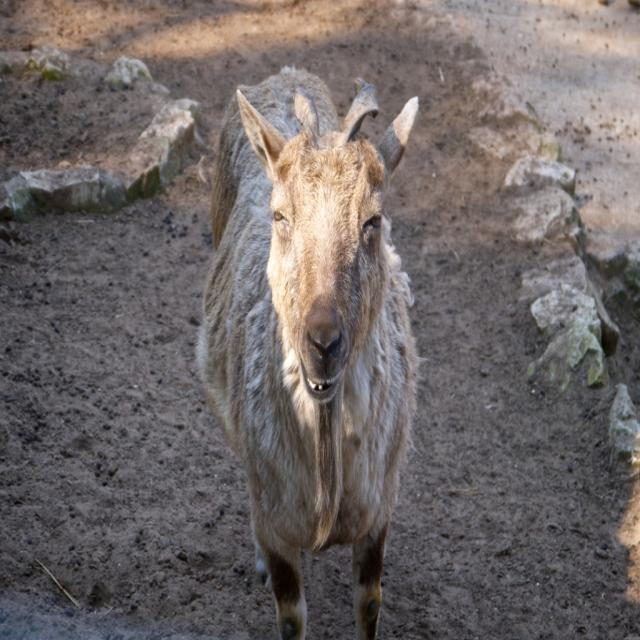Goat: (198, 63, 422, 640)
